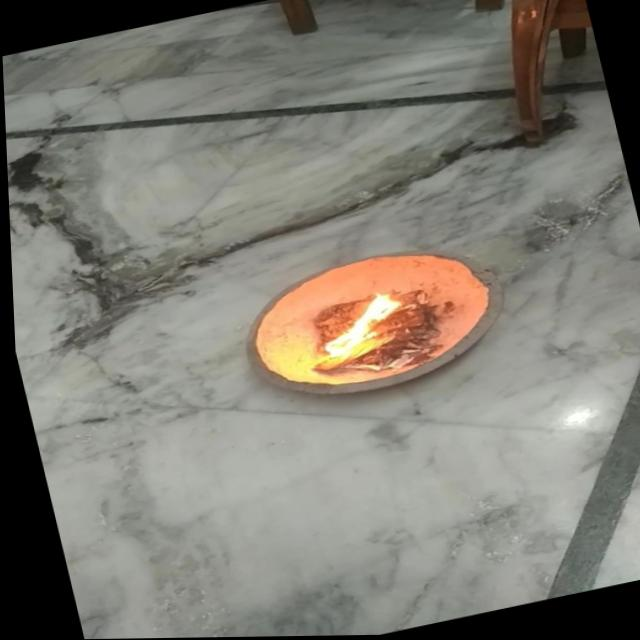fire: (296, 287, 411, 369)
